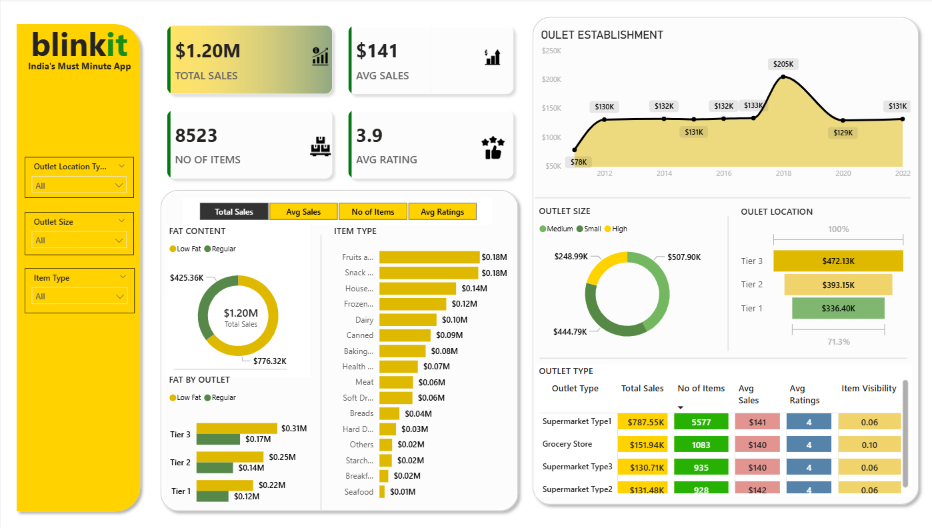

What the dashboard file says about the page in this screenshot:
{"tool":"powerbi","page":{"name":"Page 1","canvas":[1400,800],"ordinal":0},"visuals":[{"type":"shape","box":[14.9,29.8,203.7,750.2],"z":0},{"type":"textbox","box":[28.2,29.8,178.9,92.7],"z":1000},{"type":"textbox","box":[29.8,87.8,177.2,46.4],"z":2000},{"type":"cardVisual","fields":{"Data":["BlinkIT Grocery Data.Total Sales","BlinkIT Grocery Data.Avg Sales","BlinkIT Grocery Data.No of Items","BlinkIT Grocery Data.Avg Ratings"]},"box":[220.3,11.6,579.7,288.2],"z":3000},{"type":"image","box":[452.1,72.9,56.3,28.2],"z":4000},{"type":"image","box":[717.1,76.2,44.7,24.8],"z":5000},{"type":"image","box":[452.1,207,56.3,31.5],"z":6000},{"type":"image","box":[715.5,207,49.7,34.8],"z":7000},{"type":"shape","box":[231.9,279.9,554.8,500.2],"z":8000},{"type":"donutChart","title":"FAT CONTENT","fields":{"Y":["BlinkIT Grocery Data.Total Sales"],"Category":["BlinkIT Grocery Data.Item Fat Content"]},"box":[248.4,339.5,217,230.2],"z":9000},{"type":"slicer","fields":{"Values":["Matrices.Matrices"]},"box":[273.3,299.8,465.4,39.7],"z":10000},{"type":"cardVisual","fields":{"Data":["BlinkIT Grocery Data.Total Sales"]},"box":[304.7,443.9,112.6,69.6],"z":11000},{"type":"clusteredBarChart","title":"FAT BY OUTLET","fields":{"Y":["BlinkIT Grocery Data.Total Sales"],"Category":["BlinkIT Grocery Data.Outlet Location Type"],"Series":["BlinkIT Grocery Data.Item Fat Content"]},"box":[248.4,563.1,217,217],"z":12000},{"type":"shape","box":[260,544.9,170.6,24.8],"z":13000},{"type":"shape","box":[467,356.1,28.2,414],"z":14000},{"type":"barChart","title":"ITEM TYPE","fields":{"Y":["BlinkIT Grocery Data.Total Sales"],"Category":["BlinkIT Grocery Data.Item Type"]},"box":[495.2,339.5,270,425.6],"z":15000},{"type":"shape","box":[790,19.9,597.9,750.2],"z":16000},{"type":"lineChart","title":"OULET ESTABLISHMENT","fields":{"Category":["BlinkIT Grocery Data.Outlet Establishment Year"],"Y":["BlinkIT Grocery Data.Total Sales"]},"box":[806.6,44.7,564.8,235.2],"z":17000},{"type":"shape","box":[801.6,279.9,564.8,41.4],"z":18000},{"type":"donutChart","title":"OUTLET SIZE","fields":{"Y":["BlinkIT Grocery Data.Total Sales"],"Category":["BlinkIT Grocery Data.Outlet Size"]},"box":[803.2,309.7,274.9,225.2],"z":19000},{"type":"shape","box":[1084.8,327.4,16.6,202.6],"z":20000},{"type":"funnel","title":"OULET LOCATION","fields":{"Y":["BlinkIT Grocery Data.Total Sales"],"Category":["BlinkIT Grocery Data.Outlet Location Type"]},"box":[1106.3,311.4,258.4,220.3],"z":21000},{"type":"shape","box":[809.9,531.6,551.5,18.8],"z":22000},{"type":"pivotTable","title":"OUTLET TYPE","fields":{"Rows":["BlinkIT Grocery Data.Outlet Type"],"Values":["BlinkIT Grocery Data.Total Sales","BlinkIT Grocery Data.No of Items","BlinkIT Grocery Data.Avg Sales","BlinkIT Grocery Data.Avg Ratings","Avg(BlinkIT Grocery Data.Item Visibility)"]},"box":[803.2,549.8,564.8,198.7],"z":23000},{"type":"slicer","fields":{"Values":["BlinkIT Grocery Data.Outlet Location Type"]},"box":[36.4,238.5,164,61.3],"z":24000},{"type":"slicer","fields":{"Values":["BlinkIT Grocery Data.Outlet Size"]},"box":[36.4,321.3,164,64.6],"z":25000},{"type":"slicer","fields":{"Values":["BlinkIT Grocery Data.Item Type"]},"box":[36.4,405.8,165.6,67.9],"z":26000}]}

Visuals, with their boxes in screenshot pixels (x1, y1, x2, y2), scaled from the page's 1400x800 canvas onto the 932x529 screenshot:
shape: bbox=[10, 20, 146, 516]
textbox: bbox=[19, 20, 138, 81]
textbox: bbox=[20, 58, 138, 89]
cardVisual - BlinkIT Grocery Data.Total Sales x BlinkIT Grocery Data.Avg Sales: bbox=[147, 8, 533, 198]
image: bbox=[301, 48, 338, 67]
image: bbox=[477, 50, 507, 67]
image: bbox=[301, 137, 338, 158]
image: bbox=[476, 137, 509, 160]
shape: bbox=[154, 185, 524, 516]
"FAT CONTENT" donutChart: bbox=[165, 224, 310, 377]
slicer - Matrices.Matrices: bbox=[182, 198, 492, 224]
cardVisual - BlinkIT Grocery Data.Total Sales: bbox=[203, 294, 278, 340]
"FAT BY OUTLET" clusteredBarChart: bbox=[165, 372, 310, 516]
shape: bbox=[173, 360, 287, 377]
shape: bbox=[311, 235, 330, 509]
"ITEM TYPE" barChart: bbox=[330, 224, 509, 506]
shape: bbox=[526, 13, 924, 509]
"OULET ESTABLISHMENT" lineChart: bbox=[537, 30, 913, 185]
shape: bbox=[534, 185, 910, 212]
"OUTLET SIZE" donutChart: bbox=[535, 205, 718, 354]
shape: bbox=[722, 216, 733, 350]
"OULET LOCATION" funnel: bbox=[736, 206, 909, 352]
shape: bbox=[539, 352, 906, 364]
"OUTLET TYPE" pivotTable: bbox=[535, 364, 911, 495]
slicer - BlinkIT Grocery Data.Outlet Location Type: bbox=[24, 158, 133, 198]
slicer - BlinkIT Grocery Data.Outlet Size: bbox=[24, 212, 133, 255]
slicer - BlinkIT Grocery Data.Item Type: bbox=[24, 268, 134, 313]
